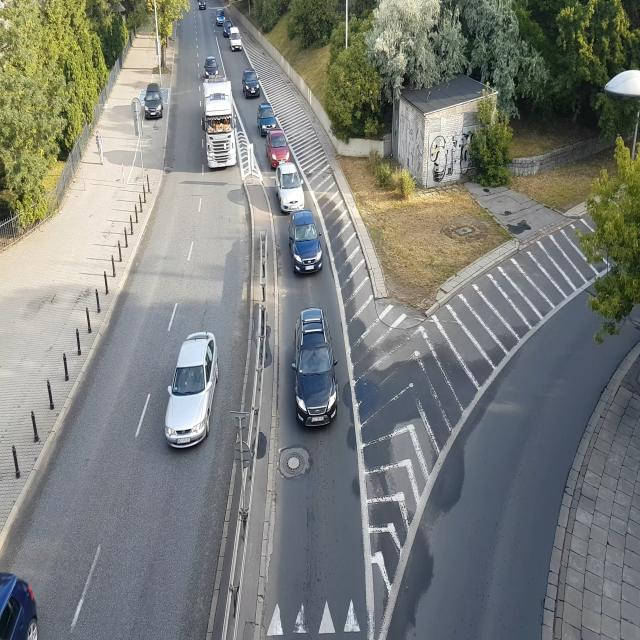car: (290, 296, 343, 425), (167, 326, 219, 446), (0, 563, 42, 640), (291, 213, 323, 274), (277, 163, 307, 215), (266, 128, 290, 166), (144, 85, 164, 119), (243, 68, 262, 98), (258, 102, 277, 131), (205, 54, 221, 80), (228, 28, 242, 48), (215, 12, 230, 28), (230, 36, 242, 52), (200, 0, 207, 17)
truck: (203, 82, 237, 169)
